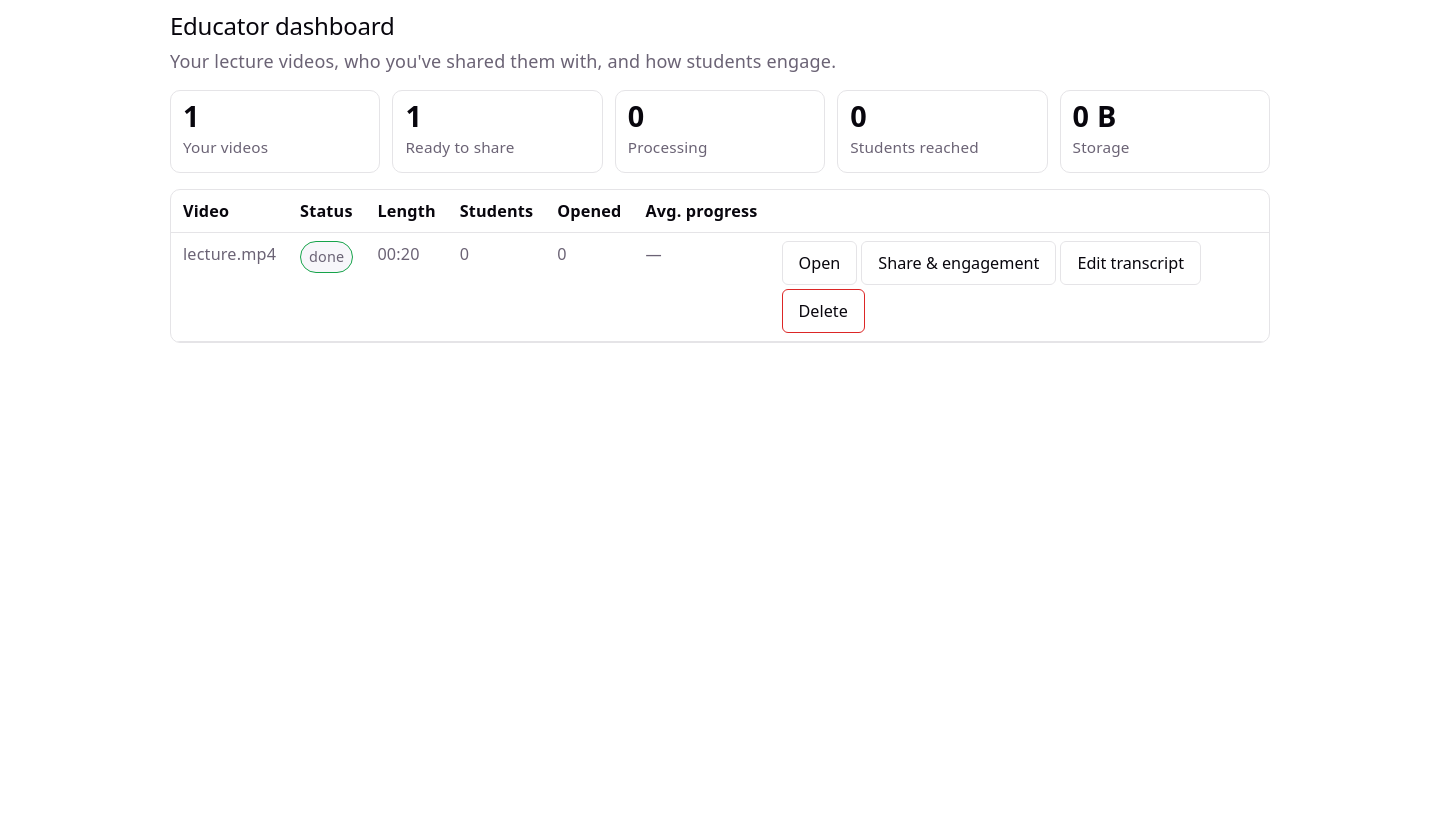
Educator dashboard › shares a video and reports who could not be added
Click the button "Share & engagement" at (959, 263), box top-left (861, 241), bottom-right (1056, 285)
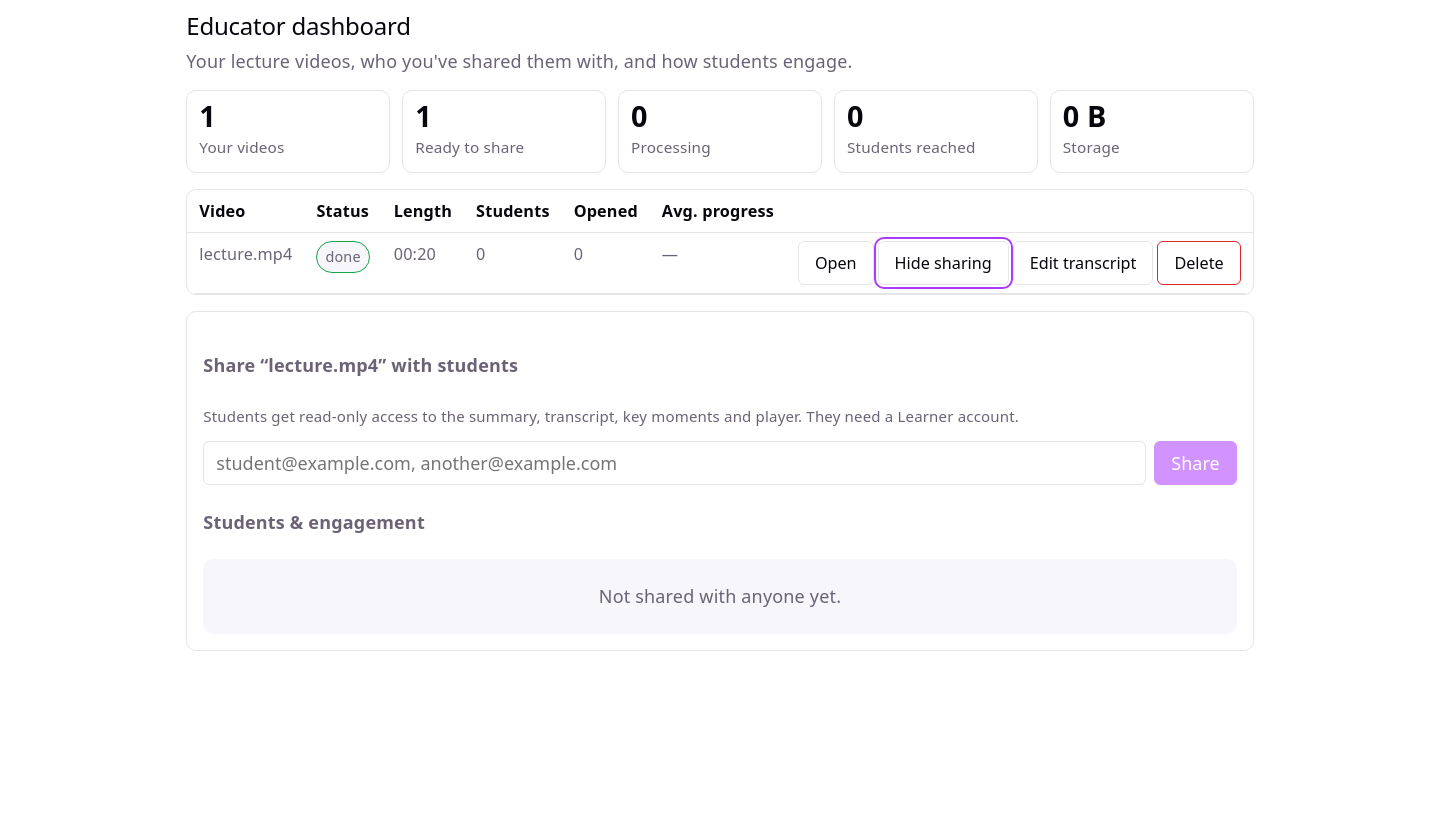
Type "a@x.com, ghost@x.com" into the field named "Student emails" at (675, 463), box top-left (203, 441), bottom-right (1146, 485)
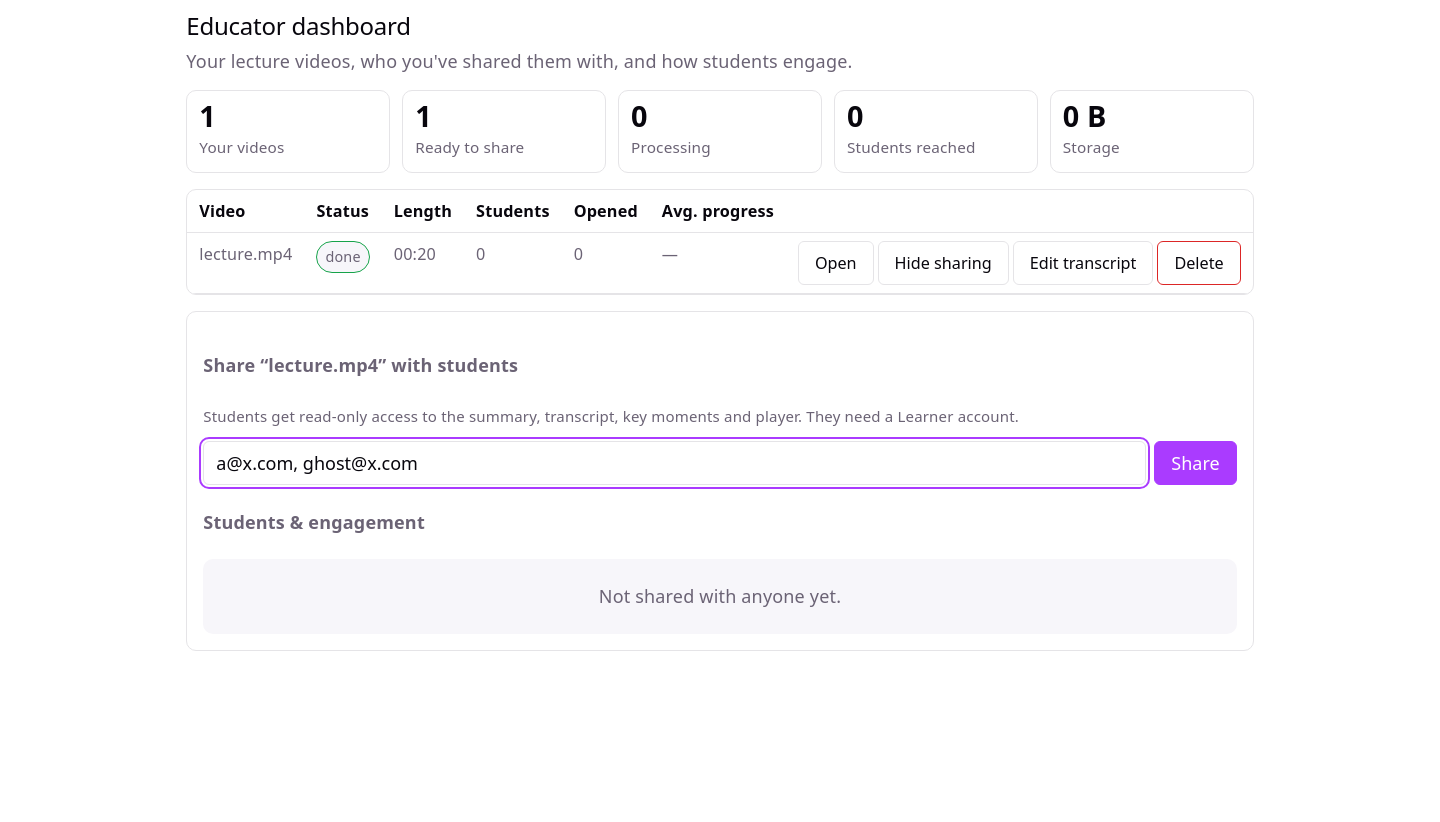
Click the button "Share" at (1195, 463), box top-left (1154, 441), bottom-right (1237, 485)
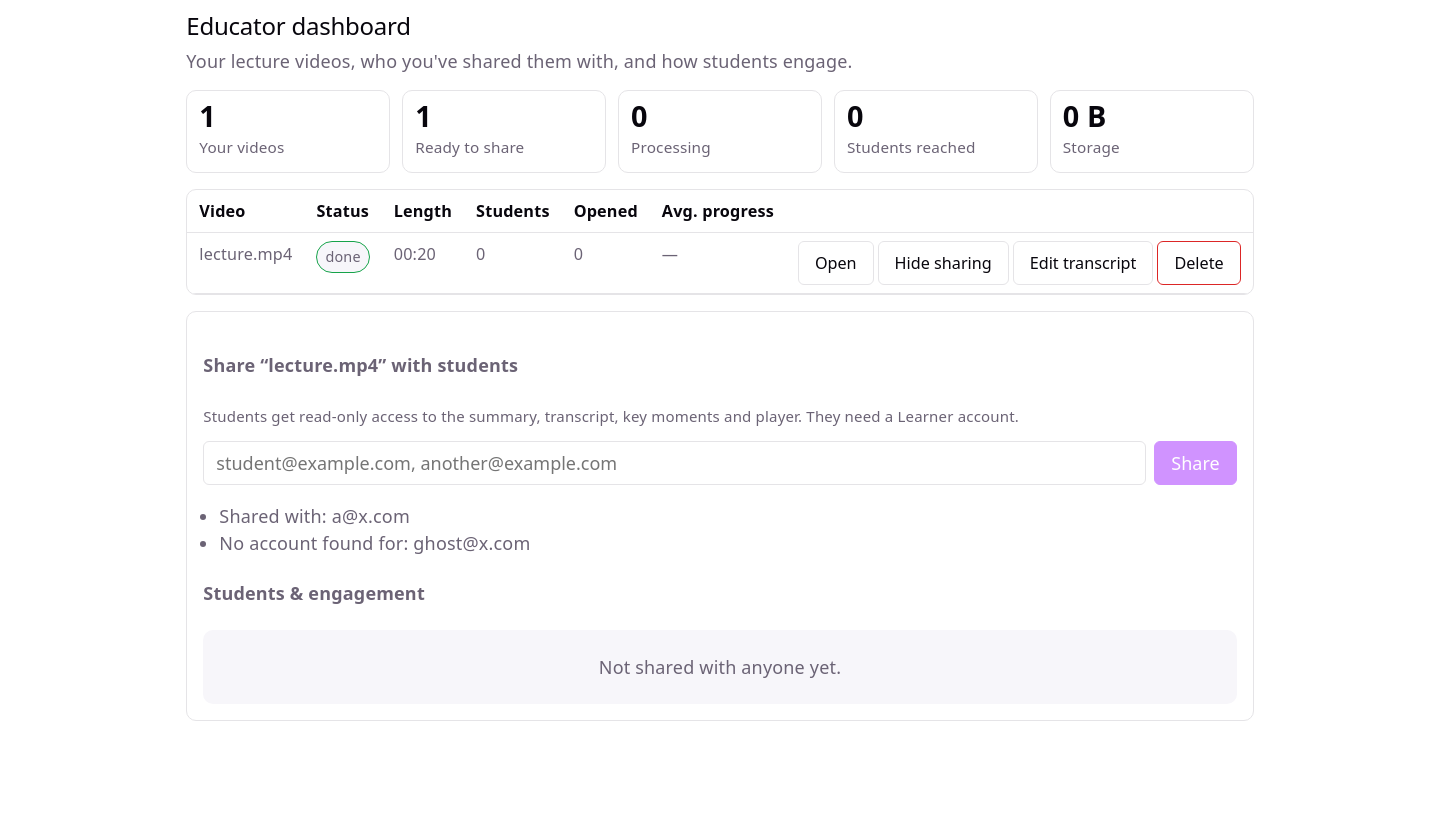
Result: the list item "Shared with: a@x.com" is shown at top-left (219, 504), bottom-right (410, 528)
Result: the list item "No account found for: ghost@x.com" is shown at top-left (219, 530), bottom-right (530, 554)
